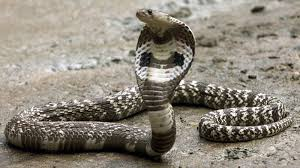snake: (127, 7, 192, 43)
